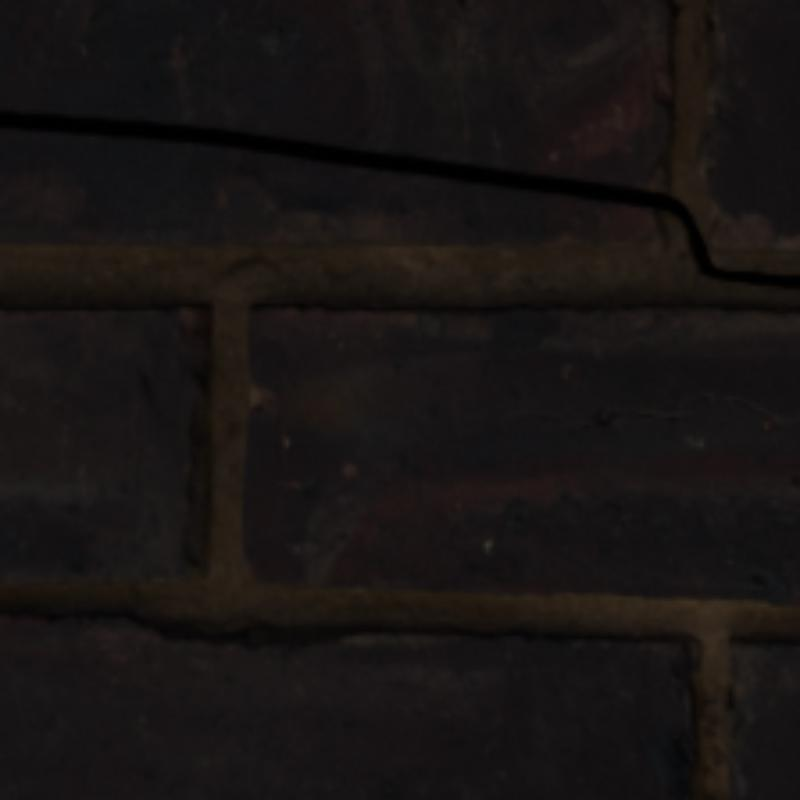crack: (0, 111, 796, 286)
